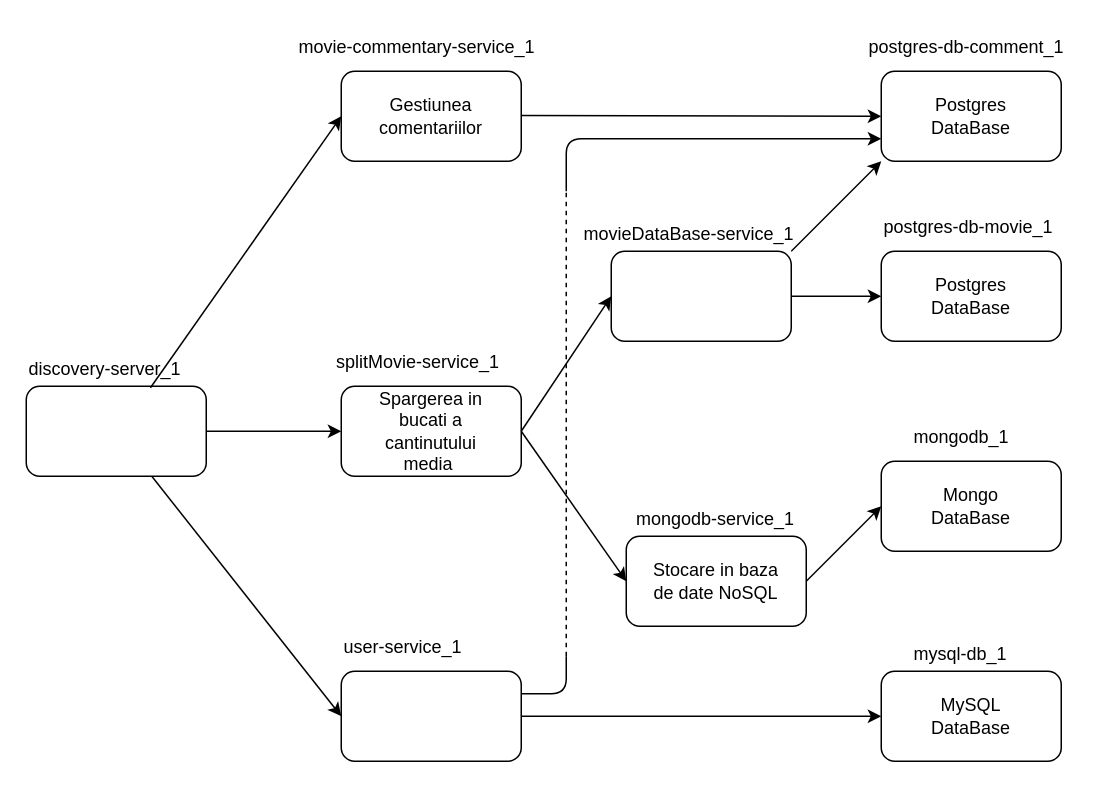
This 1103x788 diagram has some shape labels left out. Here are the shapes that lost their labels. From the top down, the centre of each, then its label:
[700,295]: Scriere in baza de date SQL
[115,430]: Discovery server
[430,715]: Autentificare si gestiune a utilizatorilor
